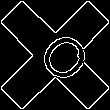O_SW: (21, 21, 89, 89)
